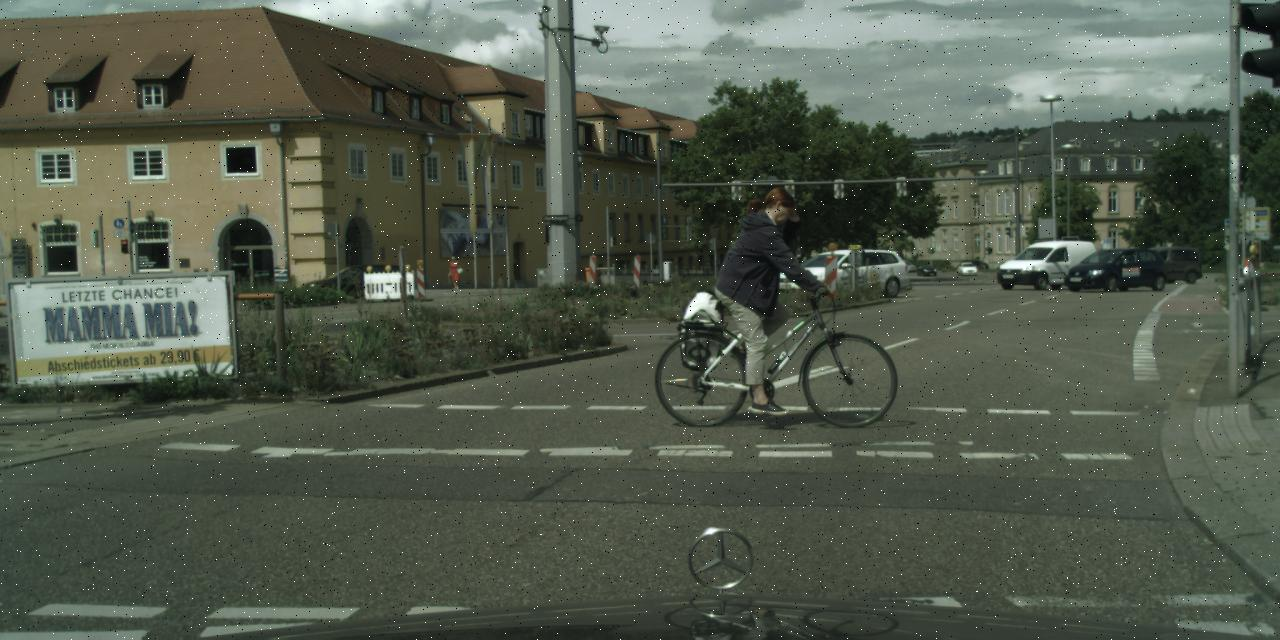ped: (724, 187, 806, 386), (448, 256, 460, 290), (918, 251, 923, 263), (914, 250, 918, 262)
